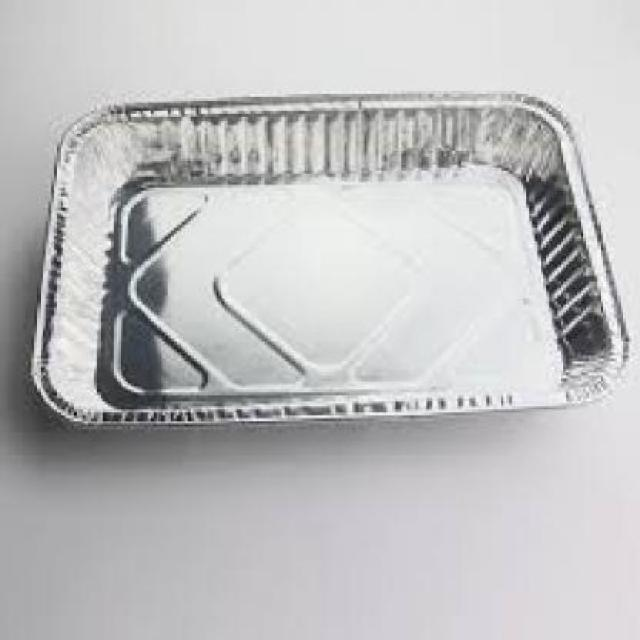METAL: (25, 91, 626, 426)
